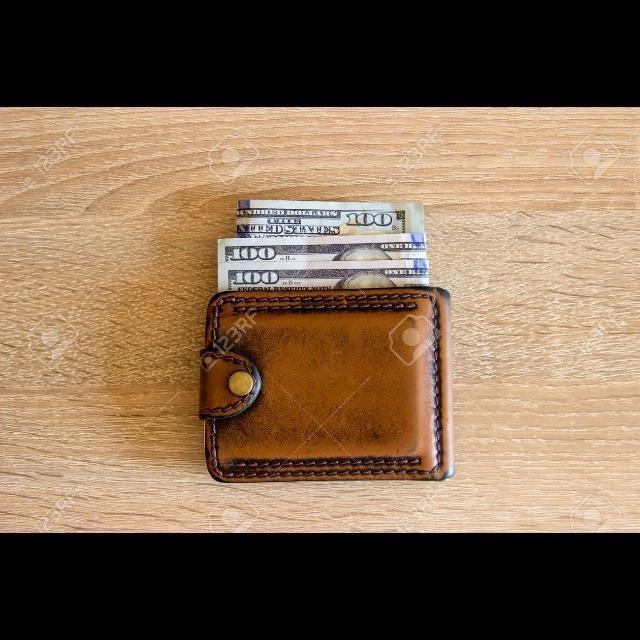Wallet: (209, 292, 453, 480)
